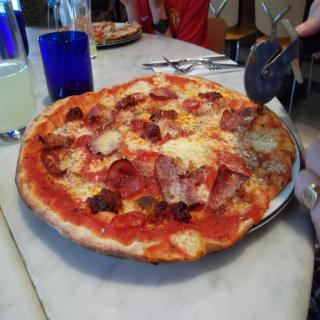Cheese: (106, 70, 286, 175)
Pizza: (13, 72, 298, 263), (59, 21, 142, 40)
